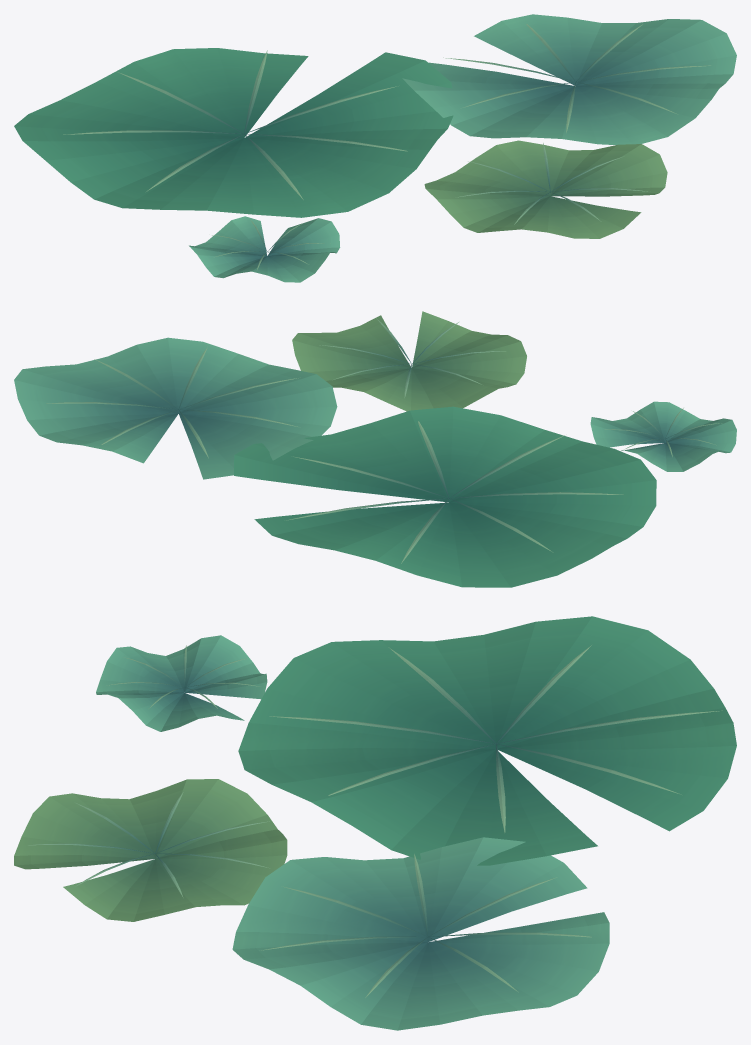
File: SM_MoonpadRaft.fbx
The picture shows the model from 3 angles, top to bottom: view 1: azimuth 30°, elevation 25°; view 2: azimuth 150°, elevation 25°; view 3: azimuth 270°, elevation 25°; orthographic projection. The views are drawn at different scales.
Visible parts, largest first — view 1: SM_MoonpadRaft; view 2: SM_MoonpadRaft; view 3: SM_MoonpadRaft.
Part boxes in pixels (box(x1,y1,x2,y2)): SM_MoonpadRaft: box(14, 14, 736, 282); SM_MoonpadRaft: box(14, 311, 736, 587); SM_MoonpadRaft: box(14, 616, 736, 1030).
Size of the model in its own units: 97.28 by 74.19 by 2.79.
Materials: 1 (1 with a texture image).
